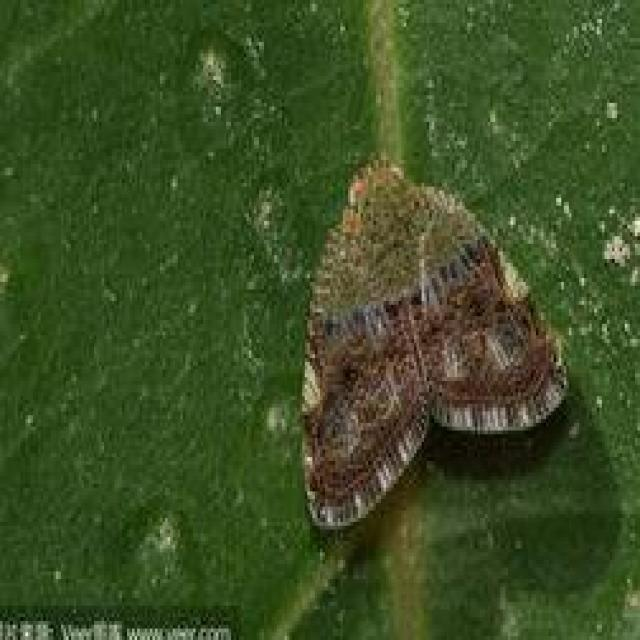BeetArmyWorm-Adult-: (274, 138, 582, 548)
